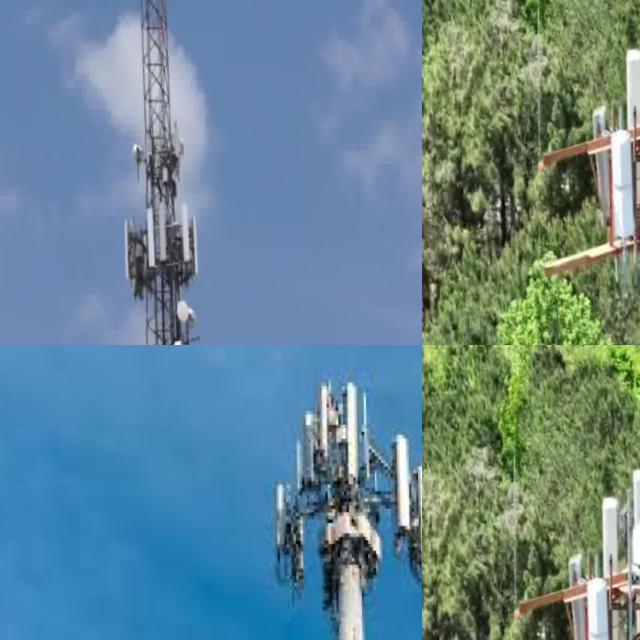GSM Antenna: (598, 122, 640, 253), (576, 105, 608, 215), (589, 494, 626, 583), (573, 575, 621, 640), (557, 552, 589, 640), (610, 43, 640, 134), (388, 435, 414, 534), (335, 384, 358, 482), (309, 386, 335, 471), (264, 483, 286, 571), (293, 410, 313, 498), (177, 212, 198, 292), (408, 461, 422, 578), (168, 202, 188, 279), (134, 203, 154, 277), (145, 199, 165, 269), (113, 221, 132, 285), (625, 466, 640, 534)
Microwave Antenna: (125, 144, 141, 174), (177, 308, 191, 338), (168, 301, 182, 330), (170, 143, 181, 161)
